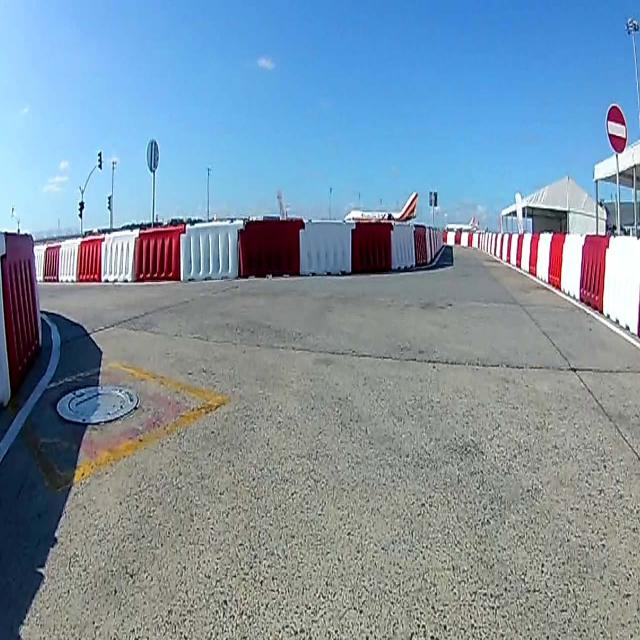girisyok: (606, 103, 626, 154)
